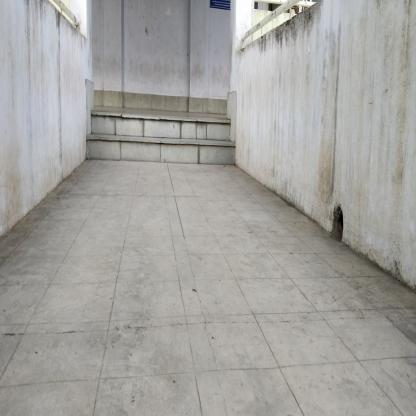stairs: (86, 118, 231, 170)
